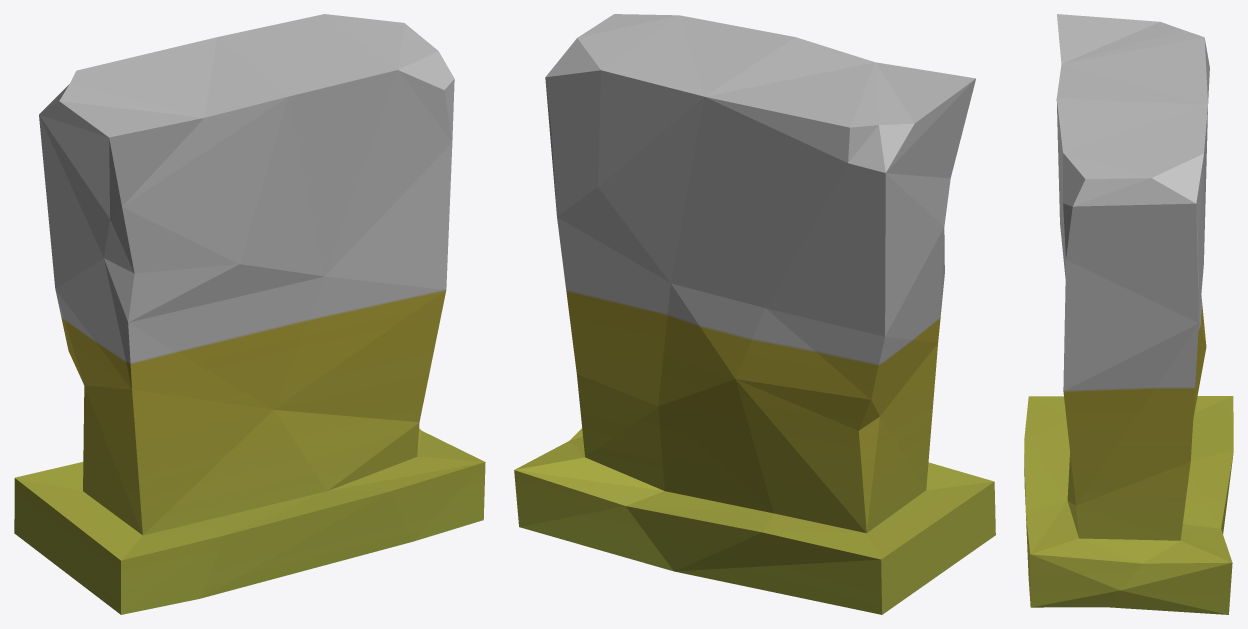
File: Gravestone_02.fbx
3 views of the same model, side by side, from view 1: azimuth 30°, elevation 25°; view 2: azimuth 150°, elevation 25°; view 3: azimuth 270°, elevation 25° (orthographic). The views are drawn at different scales.
Parts seen in each view (by area): view 1: Gravestone_02; view 2: Gravestone_02; view 3: Gravestone_02.
Boxes of the visible parts, <box> form: Gravestone_02: <box>14,14,485,614</box>; Gravestone_02: <box>514,14,995,614</box>; Gravestone_02: <box>1024,14,1233,614</box>.
Bounding box in the file's own units: 1.64 × 2.06 × 0.8646.
